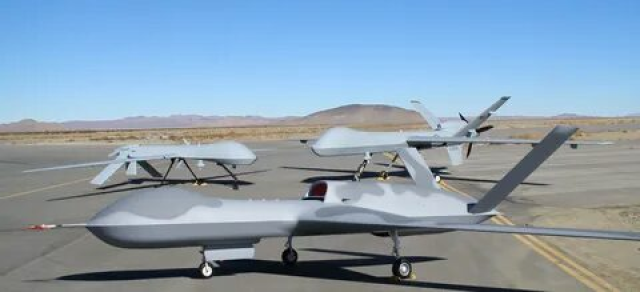military drone: (0, 123, 640, 280), (282, 95, 616, 174), (21, 137, 279, 190)
